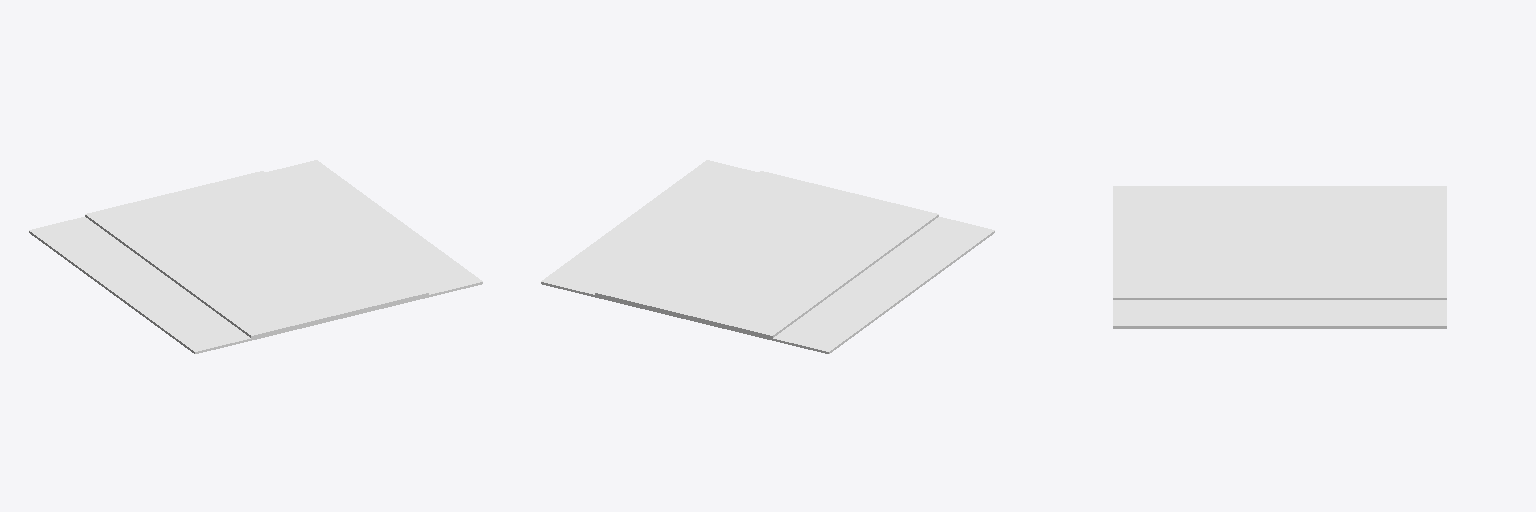
The model's file is GDS2_Flooring-13.obj.
3 renders of one model, left to right at view 1: azimuth 30°, elevation 25°; view 2: azimuth 150°, elevation 25°; view 3: azimuth 270°, elevation 25°, orthographic.
Visible parts, largest first — view 1: GDS2_Flooring-13; view 2: GDS2_Flooring-13; view 3: GDS2_Flooring-13.
Part boxes in pixels (x1,y1,x2,y2): GDS2_Flooring-13: (29,160,482,353); GDS2_Flooring-13: (541,160,994,353); GDS2_Flooring-13: (1113,186,1446,328).
Bounding box in the file's own units: 12.8 × 0.2 × 12.8.